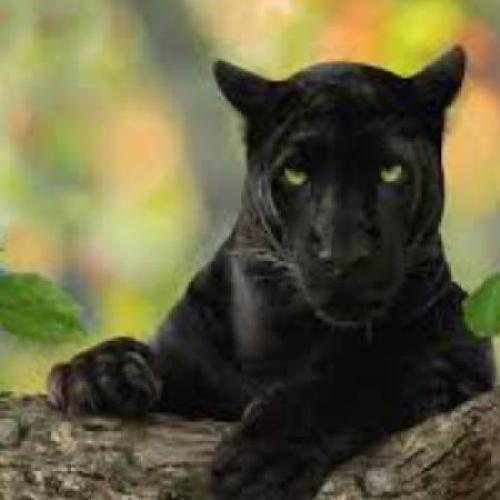panther-endangered: (43, 45, 466, 500)
